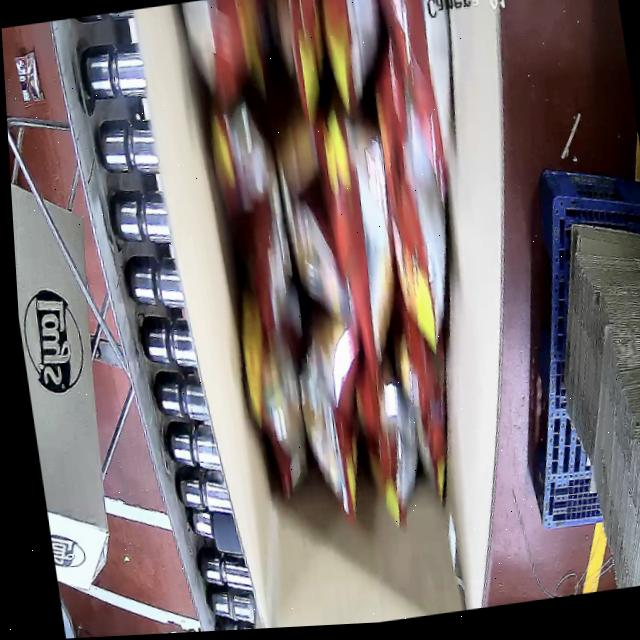MASALA: (180, 0, 500, 552)
